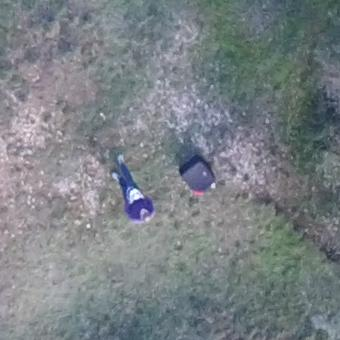human: (106, 150, 156, 224)
